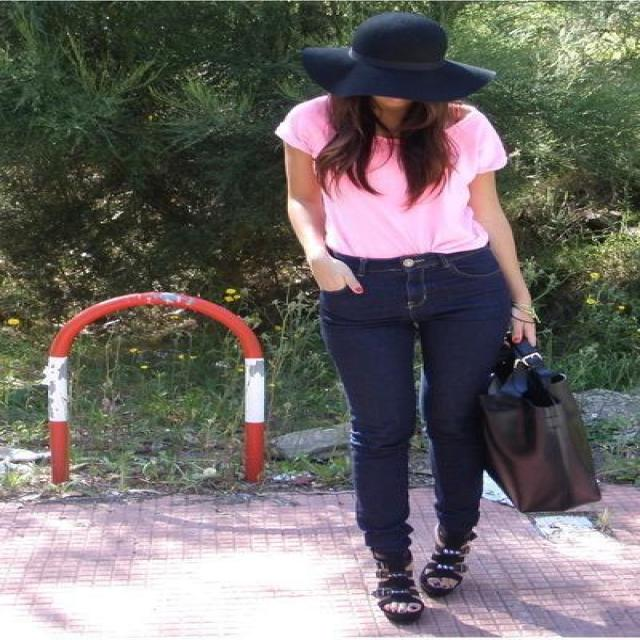bag: (464, 371, 603, 514)
hat: (302, 20, 478, 114)
pants: (301, 243, 533, 575)
shirt: (275, 94, 506, 257)
shoe: (378, 556, 466, 624)
